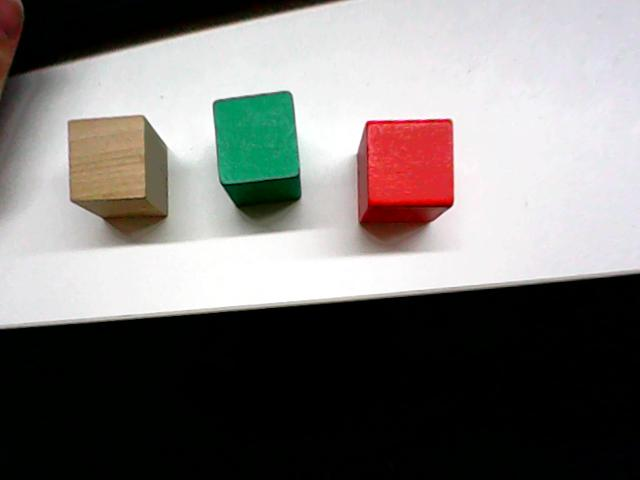green_box: (209, 86, 304, 210)
raw_box: (60, 112, 177, 227)
red_box: (353, 113, 458, 227)
